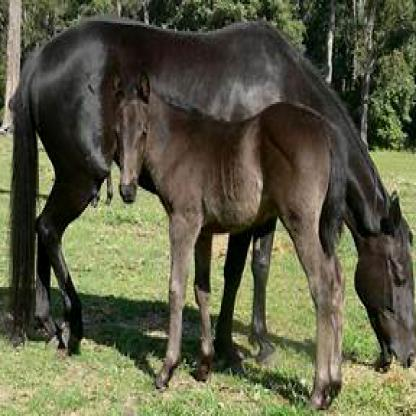horse: (10, 17, 415, 374), (110, 73, 346, 408)
